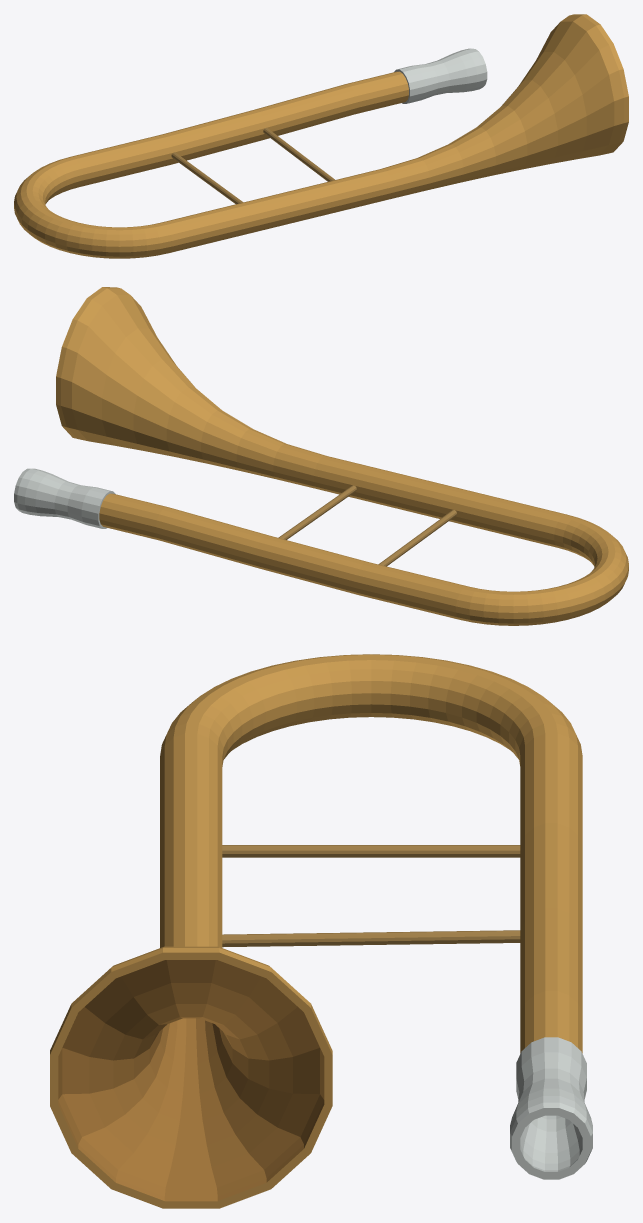
3 views of the same model, one above another, from view 1: azimuth 30°, elevation 25°; view 2: azimuth 150°, elevation 25°; view 3: azimuth 270°, elevation 25° (orthographic). The views are drawn at different scales.
Parts seen in each view (by area): view 1: Tube_ContinuousReturnAndBell, Mouthpiece_HollowCup, Stay_Front, Stay_Rear; view 2: Tube_ContinuousReturnAndBell, Mouthpiece_HollowCup, Stay_Rear, Stay_Front; view 3: Tube_ContinuousReturnAndBell, Mouthpiece_HollowCup, Stay_Front, Stay_Rear.
Part boxes in pixels (box(x1,y1,x2,y2)): Tube_ContinuousReturnAndBell: box(14, 14, 628, 258); Mouthpiece_HollowCup: box(394, 48, 487, 103); Stay_Front: box(263, 128, 334, 181); Stay_Rear: box(171, 152, 243, 204); Tube_ContinuousReturnAndBell: box(56, 287, 628, 625); Mouthpiece_HollowCup: box(14, 468, 115, 528); Stay_Rear: box(378, 510, 456, 566); Stay_Front: box(278, 485, 356, 539); Tube_ContinuousReturnAndBell: box(50, 654, 582, 1208); Mouthpiece_HollowCup: box(510, 1037, 592, 1179); Stay_Front: box(222, 930, 520, 947); Stay_Rear: box(222, 845, 520, 857).
Size of the model in its own units: 1.13 by 0.2668 by 0.5126.
